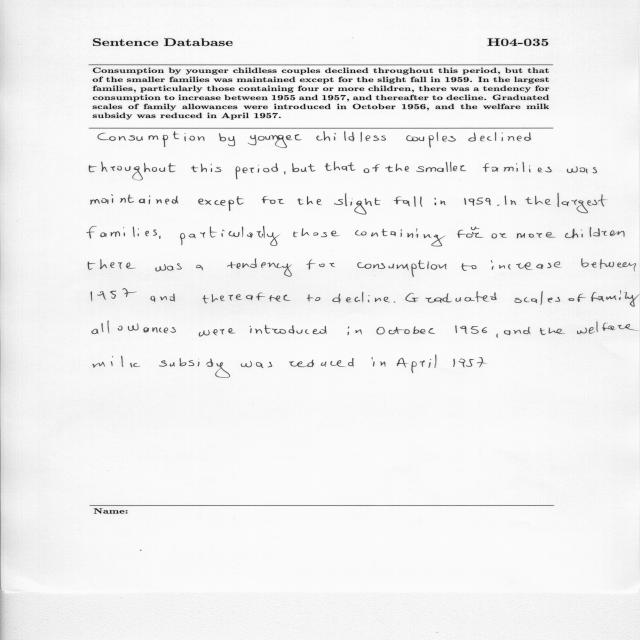word: (180, 226, 280, 246), (98, 131, 204, 147), (355, 229, 445, 247), (89, 162, 176, 180), (358, 260, 447, 277), (159, 358, 230, 378), (227, 259, 292, 277), (406, 291, 497, 303), (92, 321, 176, 334), (558, 193, 608, 213), (334, 193, 381, 214), (91, 194, 179, 205), (203, 293, 291, 304), (87, 226, 157, 239), (591, 290, 640, 307), (406, 132, 456, 148), (577, 321, 638, 334), (316, 131, 386, 142), (248, 134, 302, 148), (397, 355, 437, 373), (250, 325, 327, 334), (483, 162, 552, 172), (235, 163, 278, 179), (198, 196, 243, 211), (514, 291, 560, 305), (332, 292, 390, 303), (468, 132, 531, 142), (91, 289, 137, 302), (289, 358, 354, 367), (93, 356, 140, 368), (88, 259, 136, 270), (416, 162, 466, 172), (376, 327, 435, 335), (565, 227, 607, 238), (293, 228, 340, 237), (491, 260, 532, 270), (581, 258, 614, 269), (394, 196, 422, 207), (457, 227, 484, 238), (199, 328, 235, 336), (455, 325, 487, 334), (307, 260, 335, 270), (325, 162, 355, 171), (464, 197, 491, 206), (191, 164, 221, 172), (526, 196, 552, 205), (517, 232, 556, 238), (298, 196, 323, 205), (241, 361, 272, 368), (155, 264, 182, 272), (567, 167, 597, 174), (219, 133, 235, 146), (504, 327, 530, 335), (292, 163, 315, 172), (385, 164, 409, 172), (453, 359, 474, 368), (536, 262, 562, 269), (262, 196, 284, 204), (540, 328, 565, 335), (617, 262, 636, 271), (372, 357, 386, 367), (569, 294, 586, 302), (364, 165, 380, 173), (462, 263, 477, 271), (160, 294, 175, 302), (347, 327, 362, 335), (505, 195, 516, 205), (477, 357, 487, 368), (610, 230, 624, 237), (307, 295, 320, 302), (435, 198, 446, 205), (492, 233, 507, 238), (196, 265, 203, 270), (151, 296, 155, 302), (284, 171, 286, 175), (159, 235, 161, 239), (496, 334, 498, 338), (497, 205, 500, 206), (394, 302, 396, 303)
